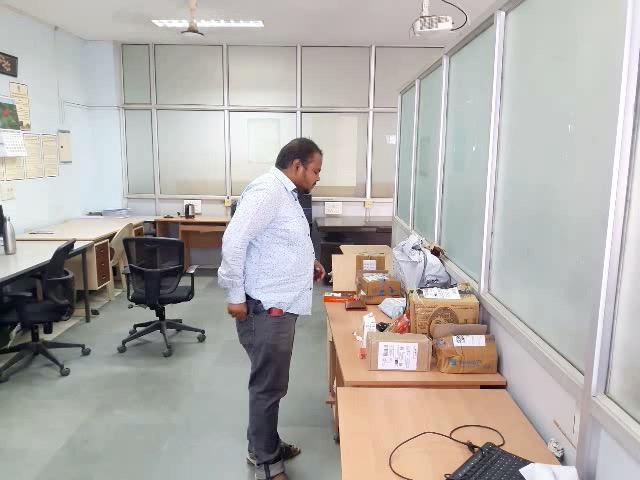shoplifting: (179, 271, 318, 380)
